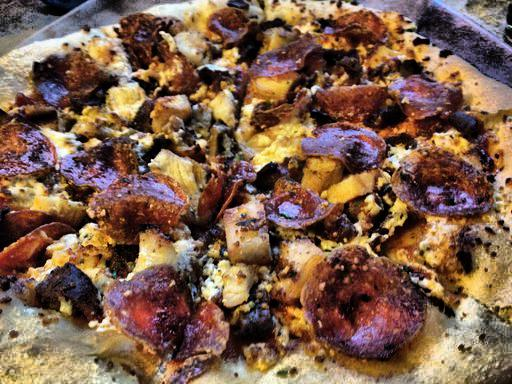pizza: (2, 15, 512, 384)
